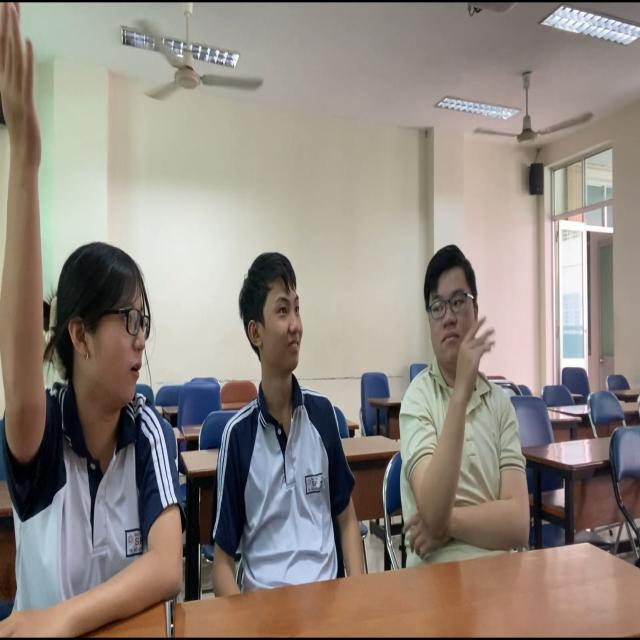raise_hand: (1, 1, 186, 637)
